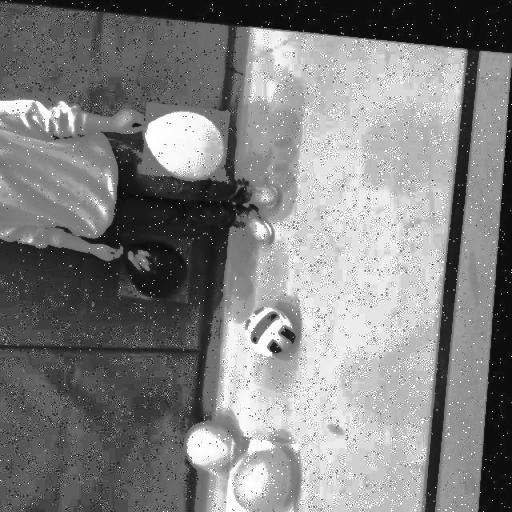balloon: (144, 99, 231, 176), (234, 431, 305, 512), (122, 228, 196, 298), (188, 412, 252, 471)
